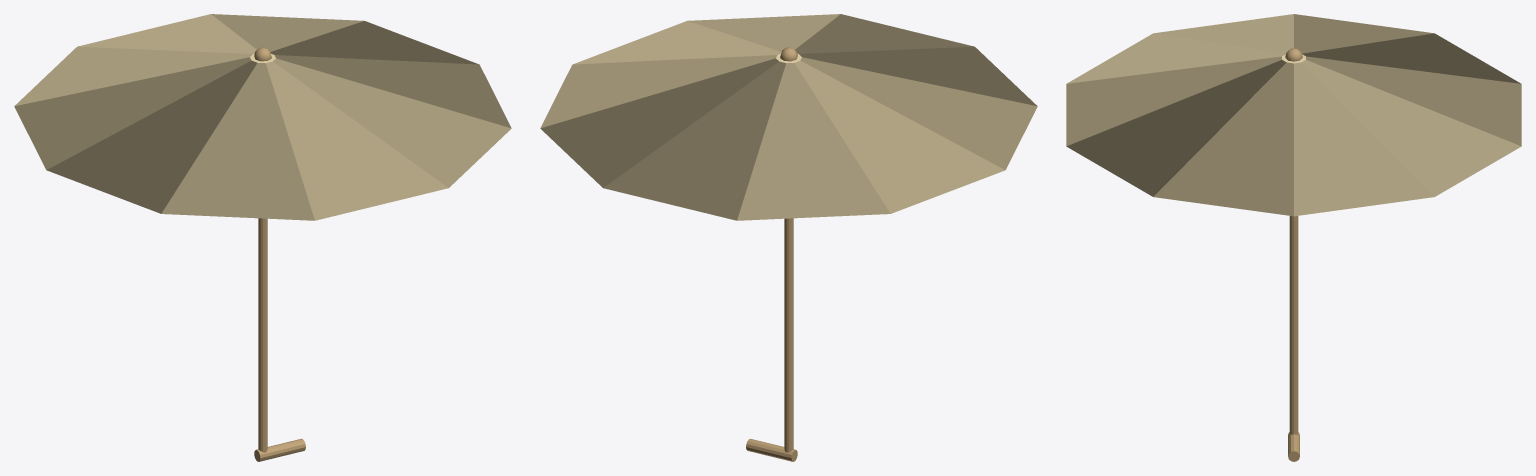
The model's file is oilPaperUmbrella.glb.
The picture shows the model from 3 angles, left to right: view 1: azimuth 30°, elevation 25°; view 2: azimuth 150°, elevation 25°; view 3: azimuth 270°, elevation 25°; orthographic projection. The views are drawn at different scales.
Visible parts, largest first — view 1: oilPaperUmbrella; view 2: oilPaperUmbrella; view 3: oilPaperUmbrella.
Boxes of the visible parts, left/top/right/bottom form: oilPaperUmbrella: left=14, top=14, right=511, bottom=461; oilPaperUmbrella: left=540, top=14, right=1037, bottom=461; oilPaperUmbrella: left=1066, top=14, right=1521, bottom=461.
Bounding box in the file's own units: 0.76 × 0.6905 × 0.7228.
